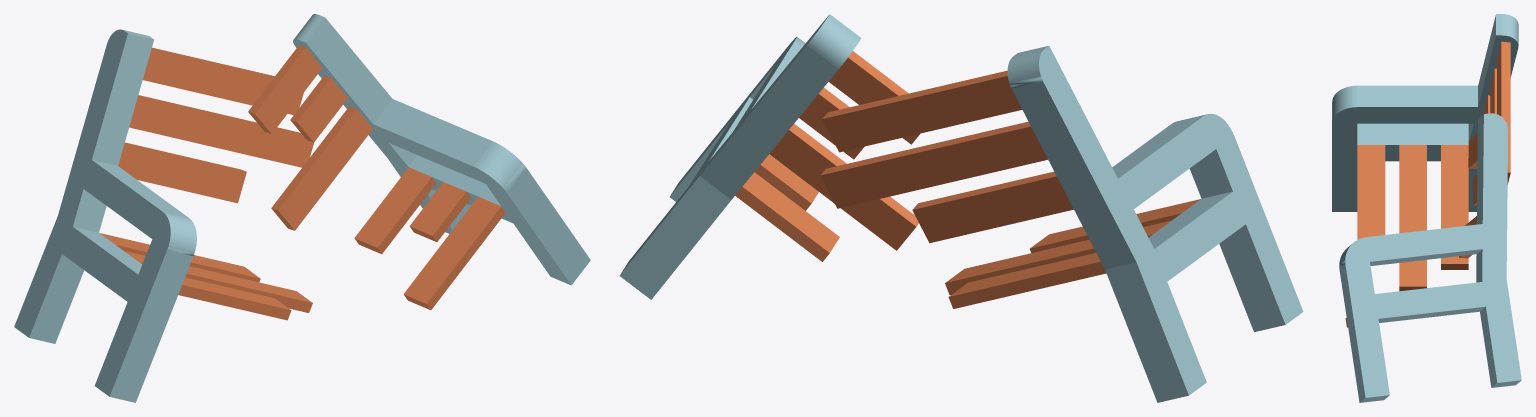
File: benchDamaged.dae
3 views of the same model, side by side, from view 1: azimuth 30°, elevation 25°; view 2: azimuth 150°, elevation 25°; view 3: azimuth 270°, elevation 25° (orthographic). The views are drawn at different scales.
Visible parts, largest first — view 1: benchBroken_x0020__x0025_8angles; view 2: benchBroken_x0020__x0025_8angles; view 3: benchBroken_x0020__x0025_8angles.
Boxes of the visible parts, x1,y1,x2,y2 form: benchBroken_x0020__x0025_8angles: [14, 14, 590, 402]; benchBroken_x0020__x0025_8angles: [619, 14, 1303, 402]; benchBroken_x0020__x0025_8angles: [1332, 14, 1521, 402].
Size of the model in its own units: 0.9902 by 0.5319 by 0.3829.
